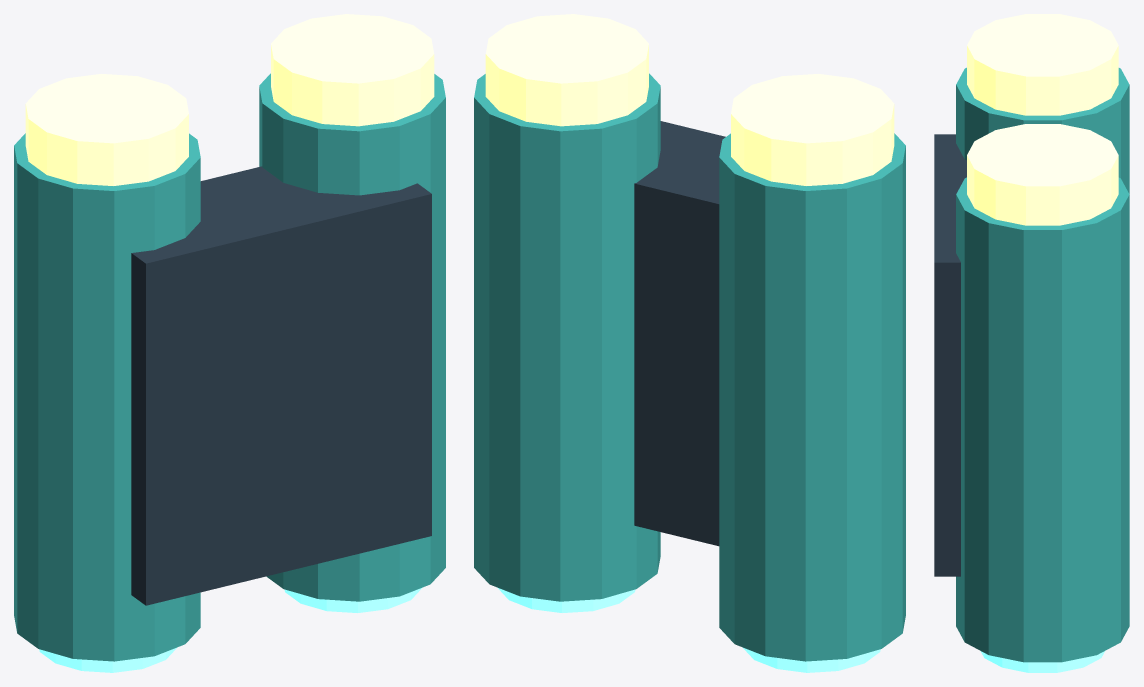
File: CloudPack.glb
The picture shows the model from 3 angles, left to right: view 1: azimuth 30°, elevation 25°; view 2: azimuth 150°, elevation 25°; view 3: azimuth 270°, elevation 25°; orthographic projection. The views are drawn at different scales.
Parts seen in each view (by area): view 1: Dark.045, Teal.003, Teal.004, Gold.016, Gold.015, Glow.013, Glow.012; view 2: Teal.003, Teal.004, Dark.045, Gold.016, Gold.015, Glow.013, Glow.012; view 3: Teal.004, Gold.015, Gold.016, Dark.045, Teal.003, Glow.013.
Part boxes in pixels (x1,y1,x2,y2): Dark.045: (131,166,431,605); Teal.003: (14,133,200,661); Teal.004: (259,73,445,601); Gold.016: (271,14,434,126); Gold.015: (25,74,188,185); Glow.013: (284,587,422,612); Glow.012: (39,647,177,672); Teal.003: (719,133,905,661); Teal.004: (474,73,660,601); Dark.045: (634,121,725,546); Gold.016: (485,14,648,126); Gold.015: (731,74,894,185); Glow.013: (497,587,635,612); Glow.012: (742,647,880,672); Teal.004: (956,177,1129,662); Gold.015: (967,14,1118,115); Gold.016: (967,124,1118,225); Dark.045: (934,134,966,576); Teal.003: (956,67,1129,193); Glow.013: (980,651,1104,672).
Bounding box in the file's own units: 0.396 × 0.5 × 0.18.
